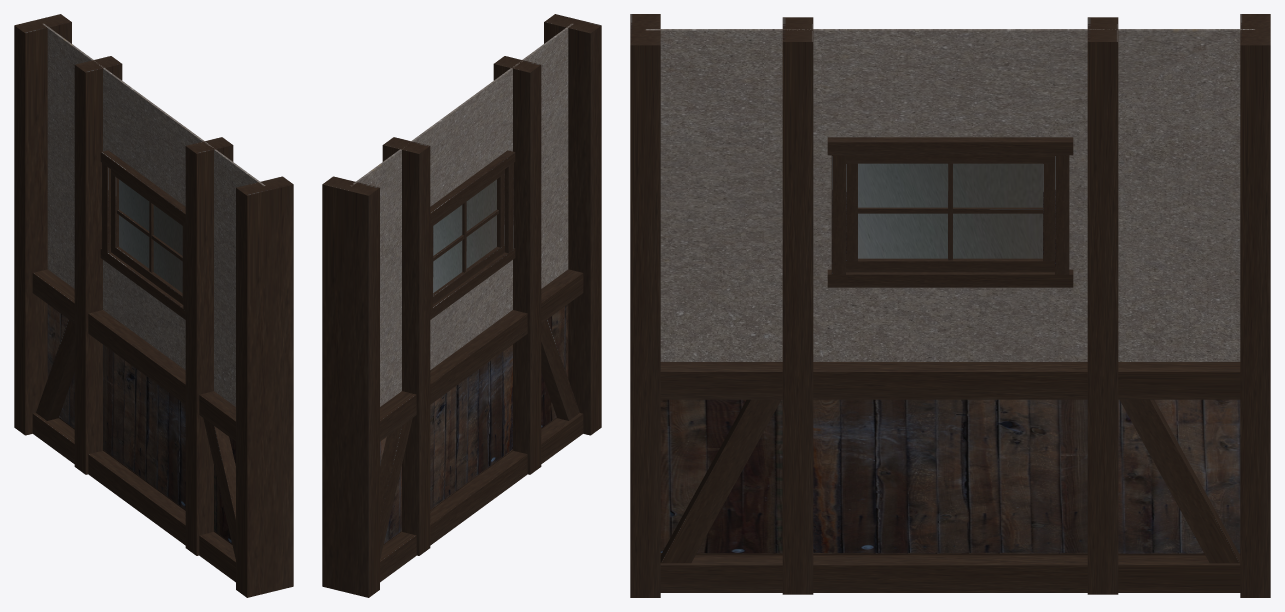
Rendered from OutdoorArchitecture_BasicWall01_Window03_BothEdges_BShortt.fbx.
3 renders of one model, left to right at view 1: azimuth 30°, elevation 25°; view 2: azimuth 150°, elevation 25°; view 3: azimuth 270°, elevation 25°, orthographic. The views are drawn at different scales.
Visible parts, largest first — view 1: OutdoorArchitecture_BasicWall01_Window03_BothEdges_BShortt; view 2: OutdoorArchitecture_BasicWall01_Window03_BothEdges_BShortt; view 3: OutdoorArchitecture_BasicWall01_Window03_BothEdges_BShortt.
Boxes of the visible parts, box(x1,y1,x2,y2) form: OutdoorArchitecture_BasicWall01_Window03_BothEdges_BShortt: box(14, 14, 293, 597); OutdoorArchitecture_BasicWall01_Window03_BothEdges_BShortt: box(322, 14, 601, 597); OutdoorArchitecture_BasicWall01_Window03_BothEdges_BShortt: box(630, 14, 1270, 597).
Bounding box in the file's own units: 36.37 × 300 × 315.
